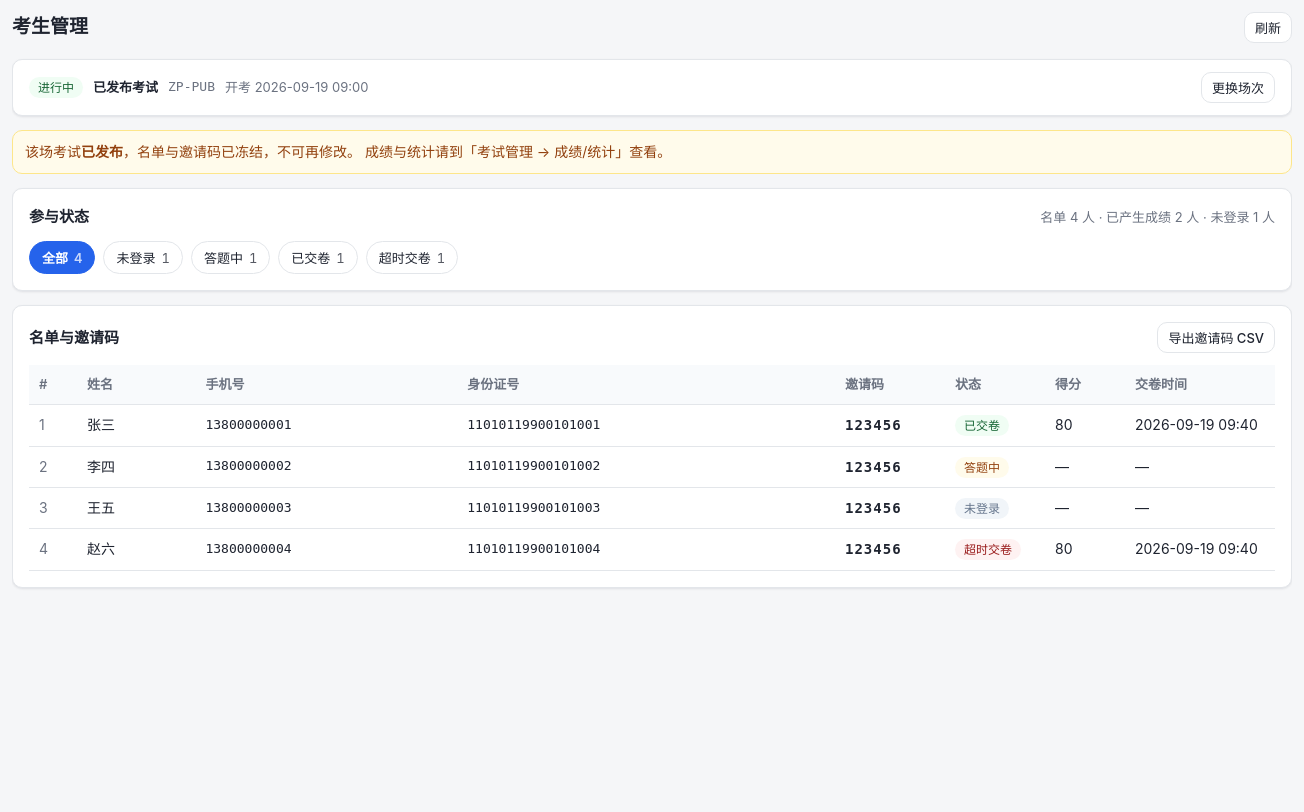
Test: 参与状态查询（CH-010） › 点状态标签可筛选名单
The width and height of the screenshot is (1304, 812).
Click the button with class "chip" showing "答题中 1" at (231, 258), box [191,241,270,274]
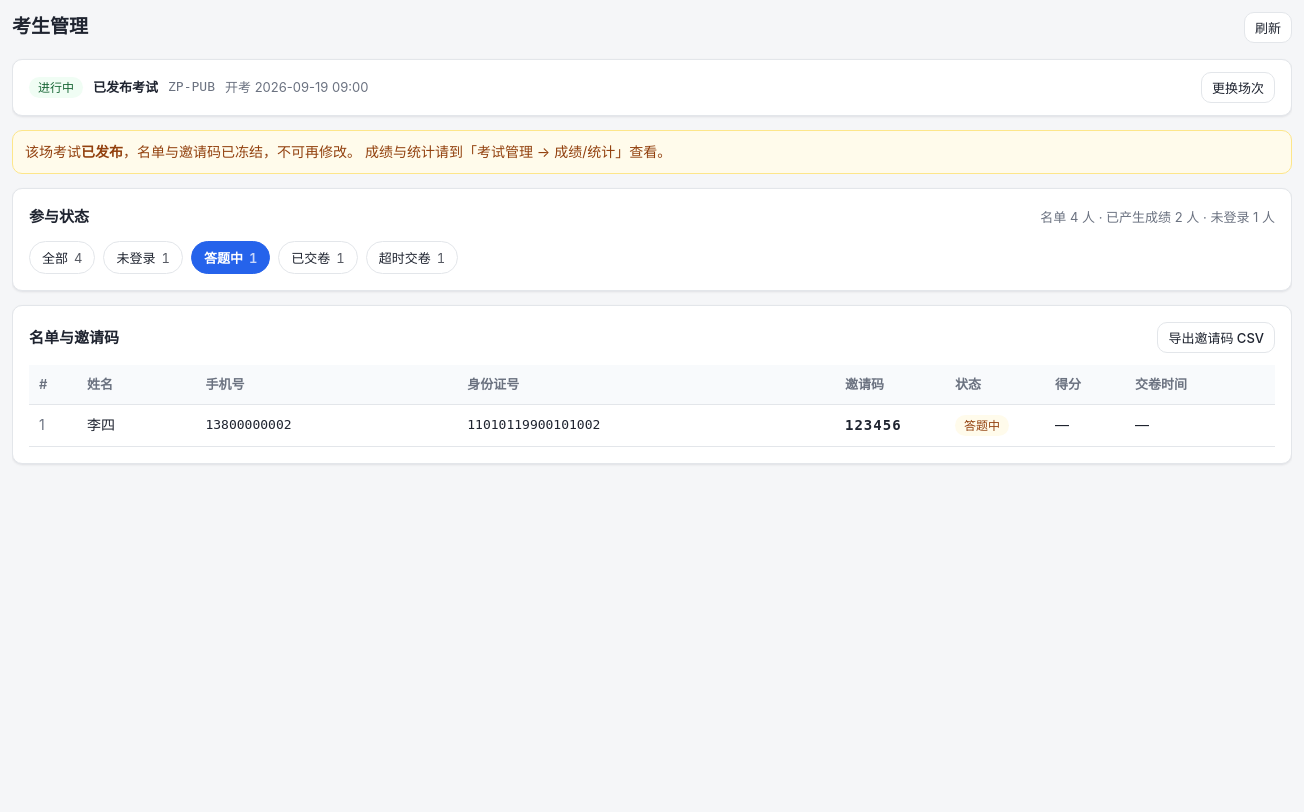
expect the row "1 李四 13800000002 11010119900101002 123456 答题中 — —" is shown: met, box [29,405,1275,446]
expect the cell no longer shows "张三": met
